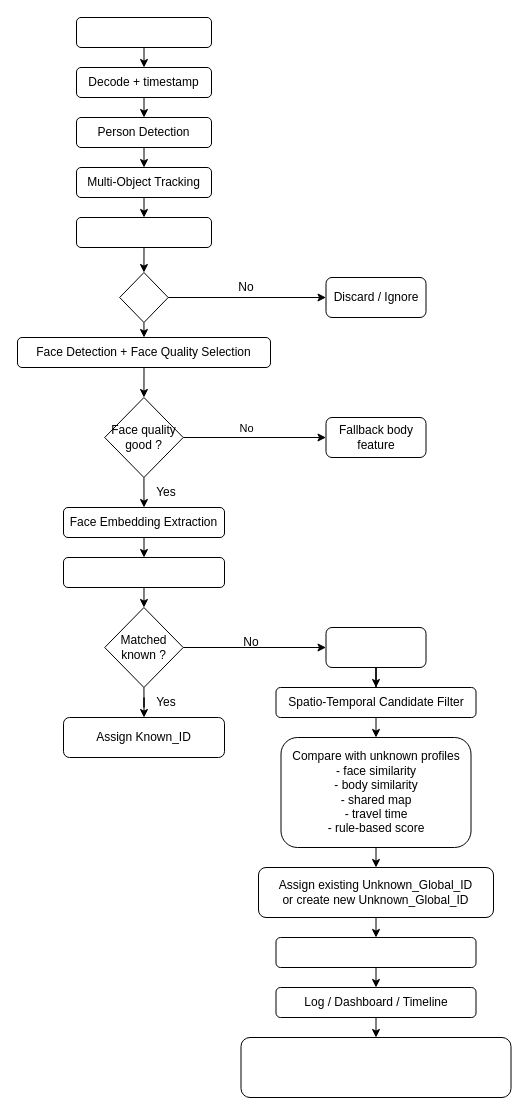
Image size: 529x1115. Some labels were removed from this diagram. The box of each missing label's shape, as (x1, y1, x2, y2) in pixels:
Build Event + Save Snapshot/Clip: (275, 936, 476, 968)
Direction Analysis: (76, 216, 212, 248)
Frame from camera_i: (76, 16, 212, 48)
IN ?: (119, 272, 168, 322)
Known DB Matching: (62, 556, 224, 588)
Output: camera_id / time / identity / count / snapshot: (240, 1036, 511, 1098)
UNKNOWN: (325, 626, 426, 668)
